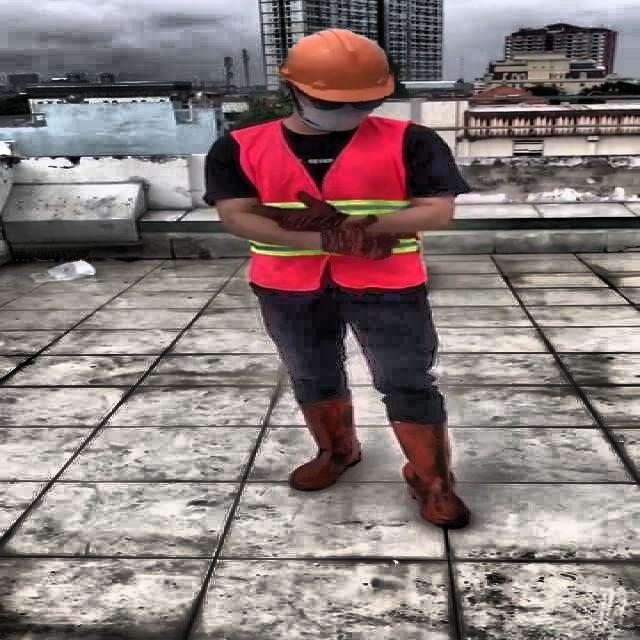safety_helmet: (276, 28, 404, 104)
safety_jacket: (226, 120, 425, 288)
